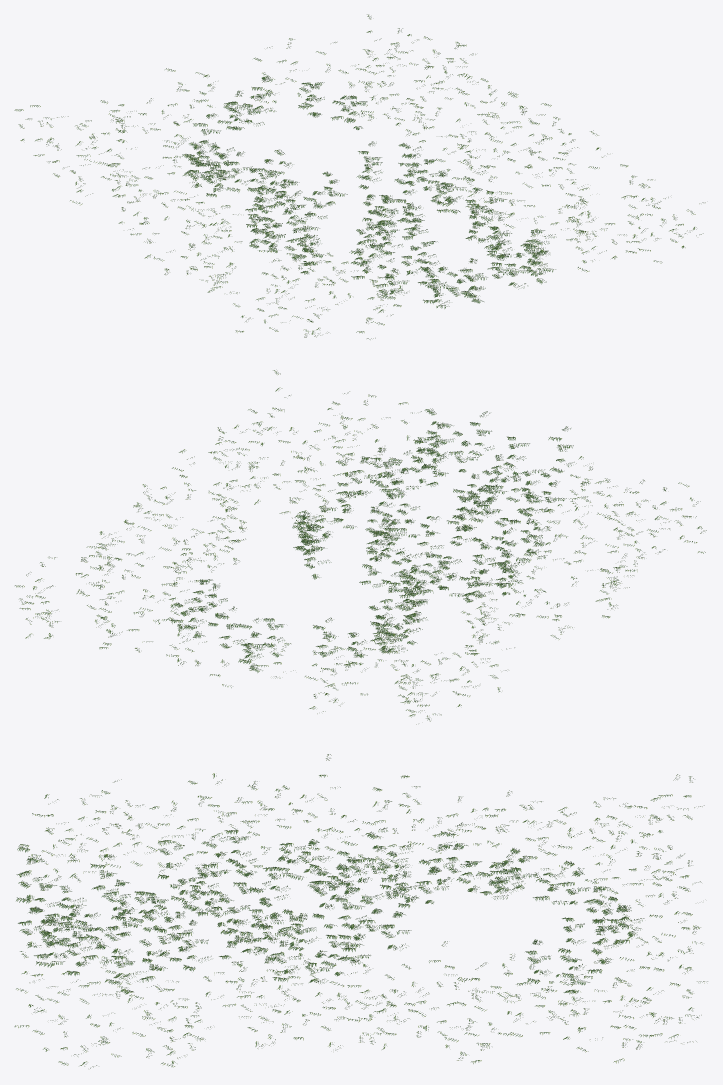
File: bamboo_leaves_2.glb
The picture shows the model from 3 angles, top to bottom: view 1: azimuth 30°, elevation 25°; view 2: azimuth 150°, elevation 25°; view 3: azimuth 270°, elevation 25°; orthographic projection. The views are drawn at different scales.
Visible parts, largest first — view 1: bamboo_leaves_20, bamboo_leaves_21, bamboo_leaves_22; view 2: bamboo_leaves_20, bamboo_leaves_21, bamboo_leaves_22; view 3: bamboo_leaves_20, bamboo_leaves_21, bamboo_leaves_22.
Part boxes in pixels (x1,y1,x2,y2): bamboo_leaves_20: (14,14,559,243); bamboo_leaves_21: (139,121,652,297); bamboo_leaves_22: (233,183,705,339); bamboo_leaves_20: (15,484,572,724); bamboo_leaves_21: (152,427,644,618); bamboo_leaves_22: (224,370,706,553); bamboo_leaves_20: (341,774,707,1063); bamboo_leaves_21: (142,754,376,1067); bamboo_leaves_22: (14,779,169,1068).
Size of the model in its own units: 83.28 by 10.66 by 93.48.
Materials: 1 (1 with a texture image).
